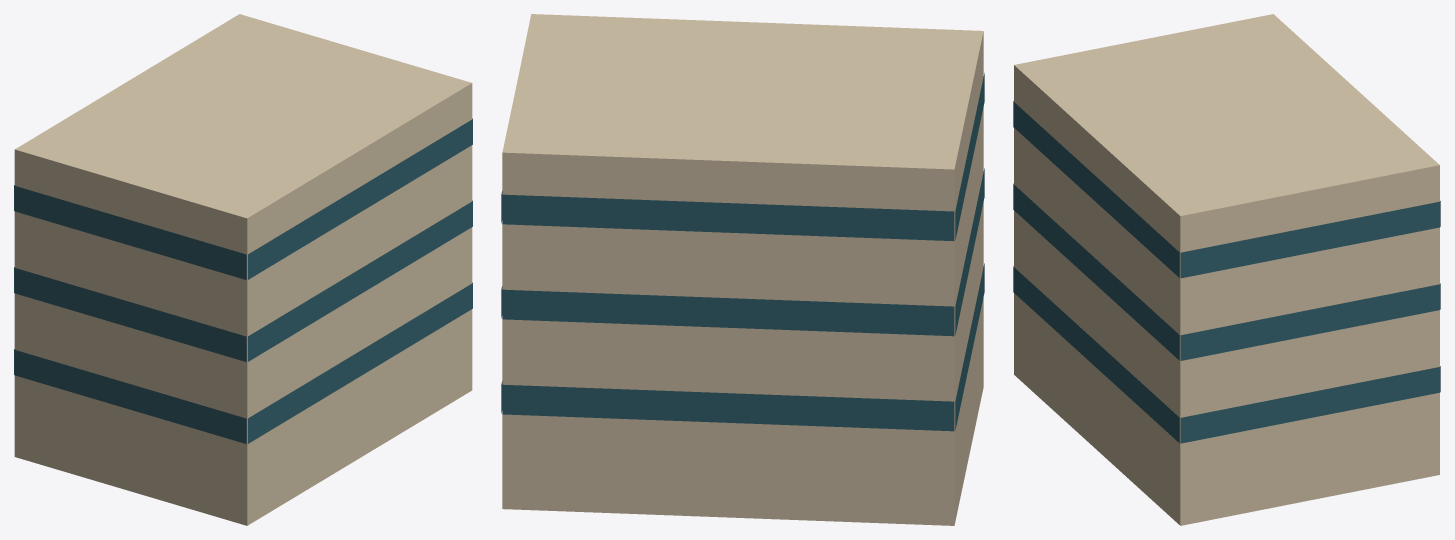
The model's file is city_1_2.glb.
3 views of the same model, side by side, from view 1: azimuth 30°, elevation 25°; view 2: azimuth 150°, elevation 25°; view 3: azimuth 270°, elevation 25° (orthographic). The views are drawn at different scales.
Visible parts, largest first — view 1: city_1_2; view 2: city_1_2; view 3: city_1_2.
Part boxes in pixels (<box>): city_1_2: <box>14,14,472,525</box>; city_1_2: <box>501,14,984,525</box>; city_1_2: <box>1013,14,1440,525</box>.
Size of the model in its own units: 21.06 by 15 by 18.75.
